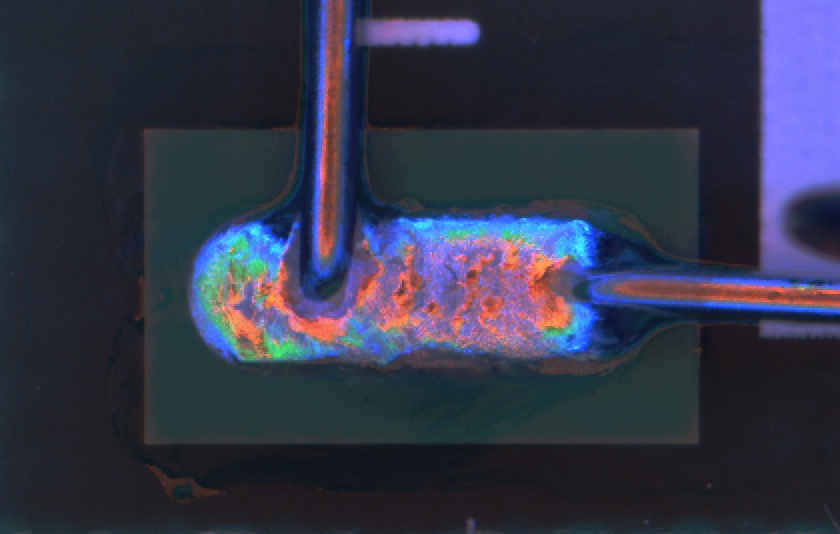spring: (293, 1, 367, 298), (560, 260, 840, 329)
spring_pin: (191, 209, 655, 359)
